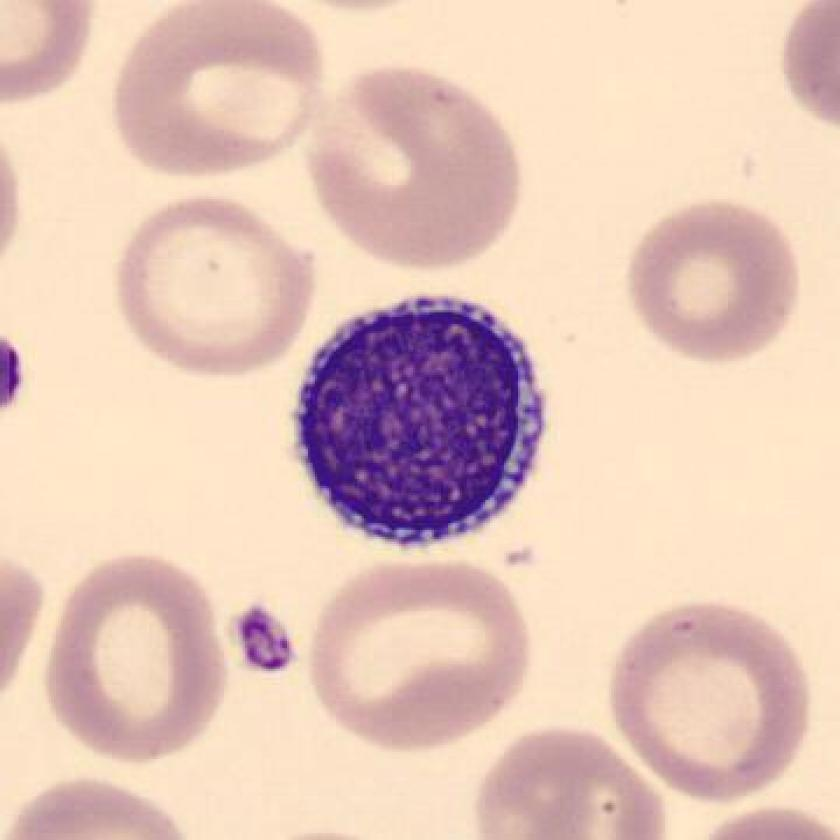lymphocyte: (274, 281, 568, 568)
